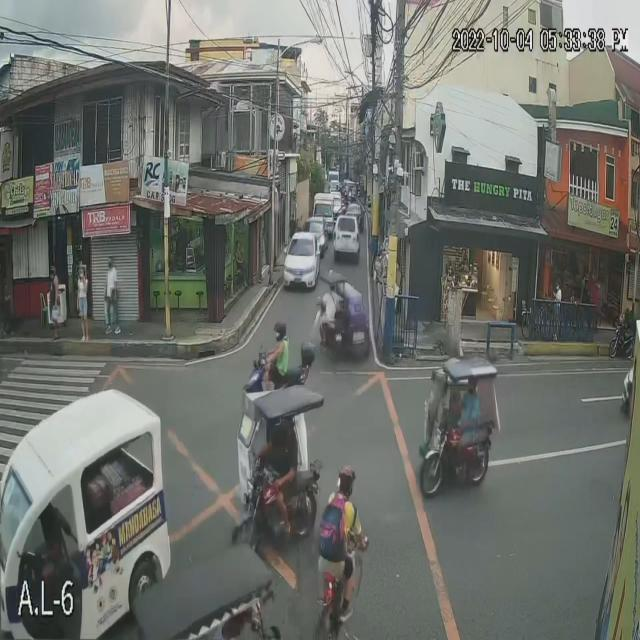Full-Faced: (270, 320, 289, 340)
